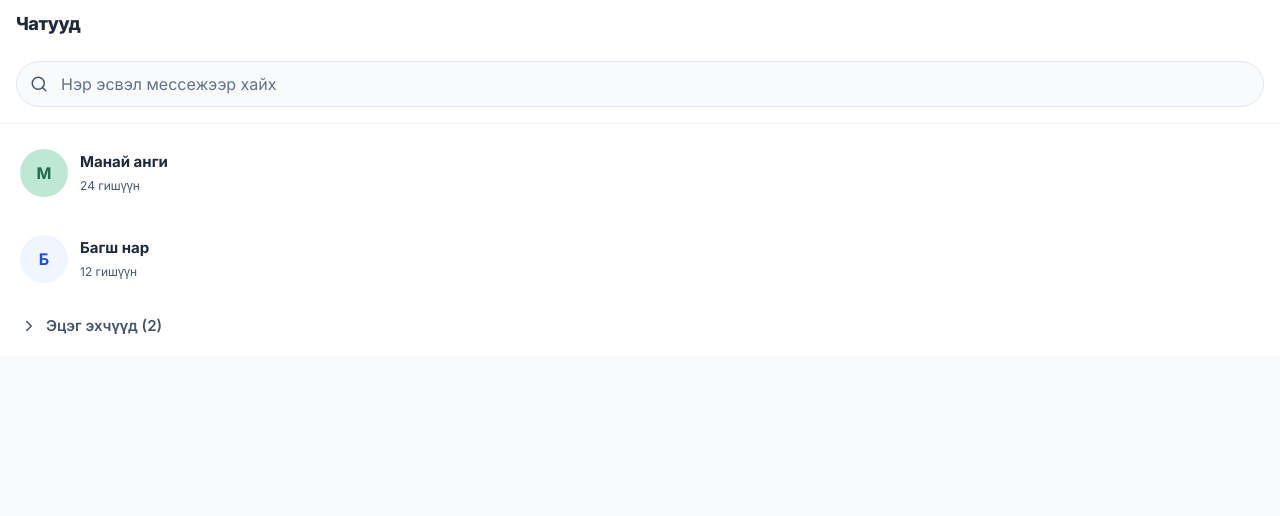
Test: a teacher's private rooms › folds them under one row, keeping the general rooms on top
The image size is (1280, 516).
Expected: the text "Хүүхэд1" is not shown
Step 1. Click the button "Эцэг эхчүүд (2)" → [97, 325], box [8,304,1272,348]
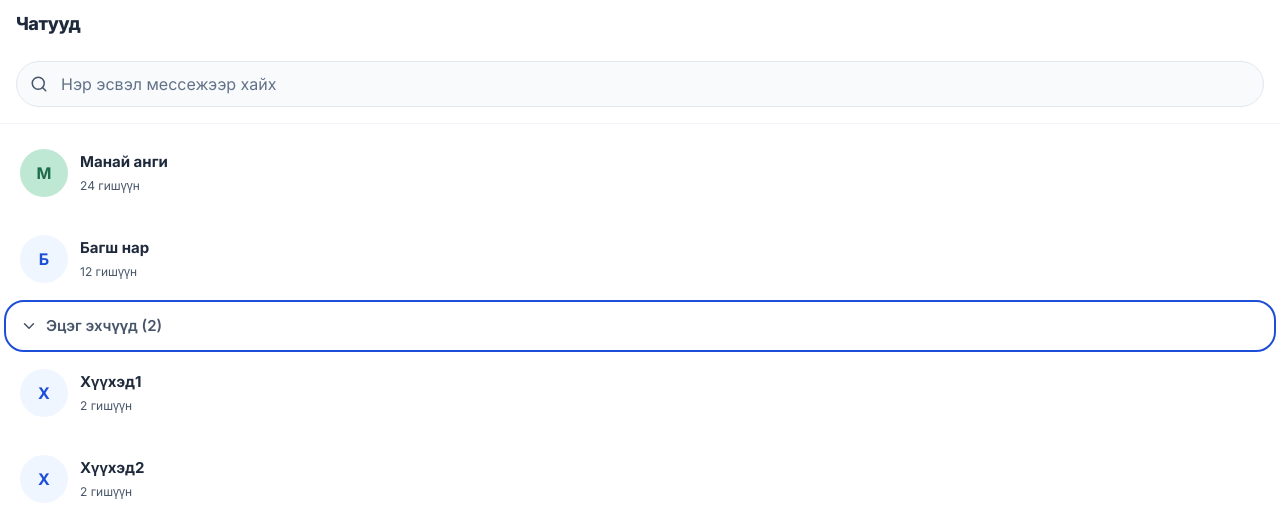
Now the text "Хүүхэд1" is shown, box [80,371,141,393]
Now the text "Хүүхэд2" is shown, box [80,457,144,479]
